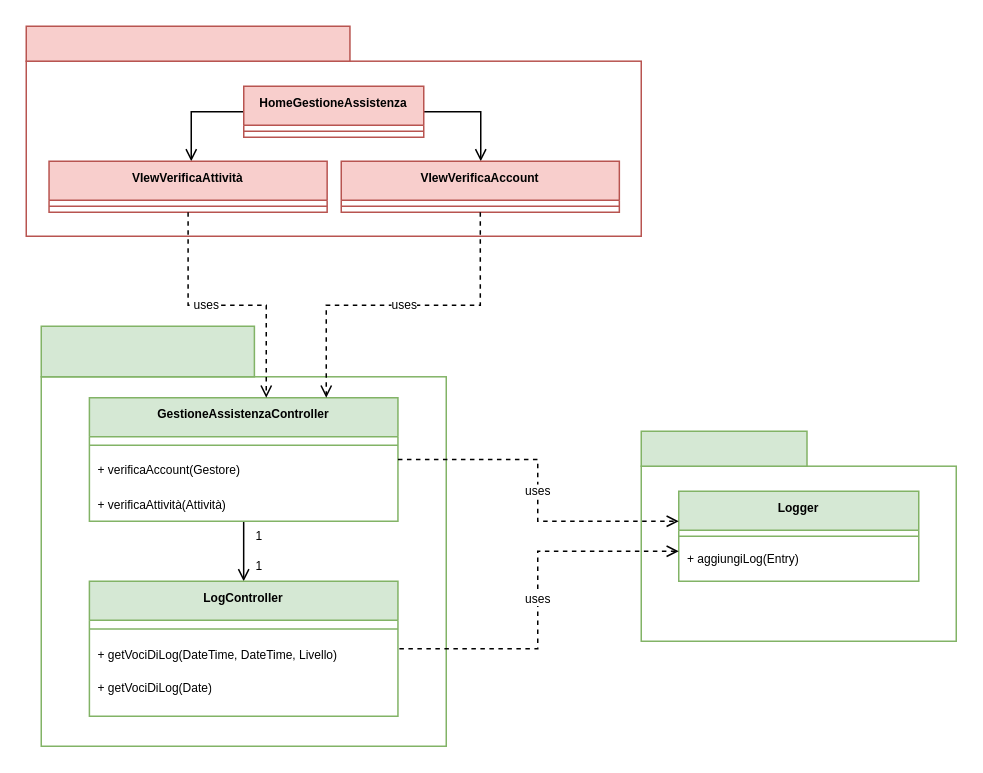
Some shapes in this 983 by 773 pixel diagram are drawn without their labels. The centre of each missing label's shape, as x and y in pixels:
"GestioneAssistenza" belongs at (147,351).
"InterfacciaAssistenza" belongs at (187,43).
"Log" belongs at (723,448).
